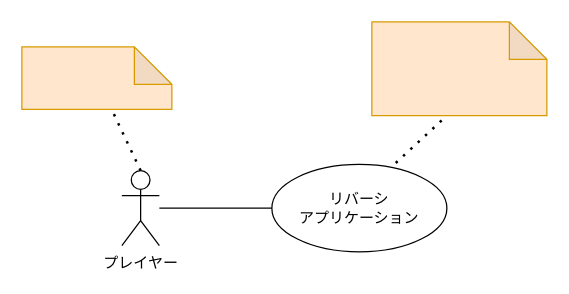
Image size: 569x294. Some labels were removed from this diagram. The centre of each missing label's shape, as x and y in pixels:
"Webアプリケーション" belongs at [459,68].
"一人で黒白交互に 打つ" belongs at [96,77].
